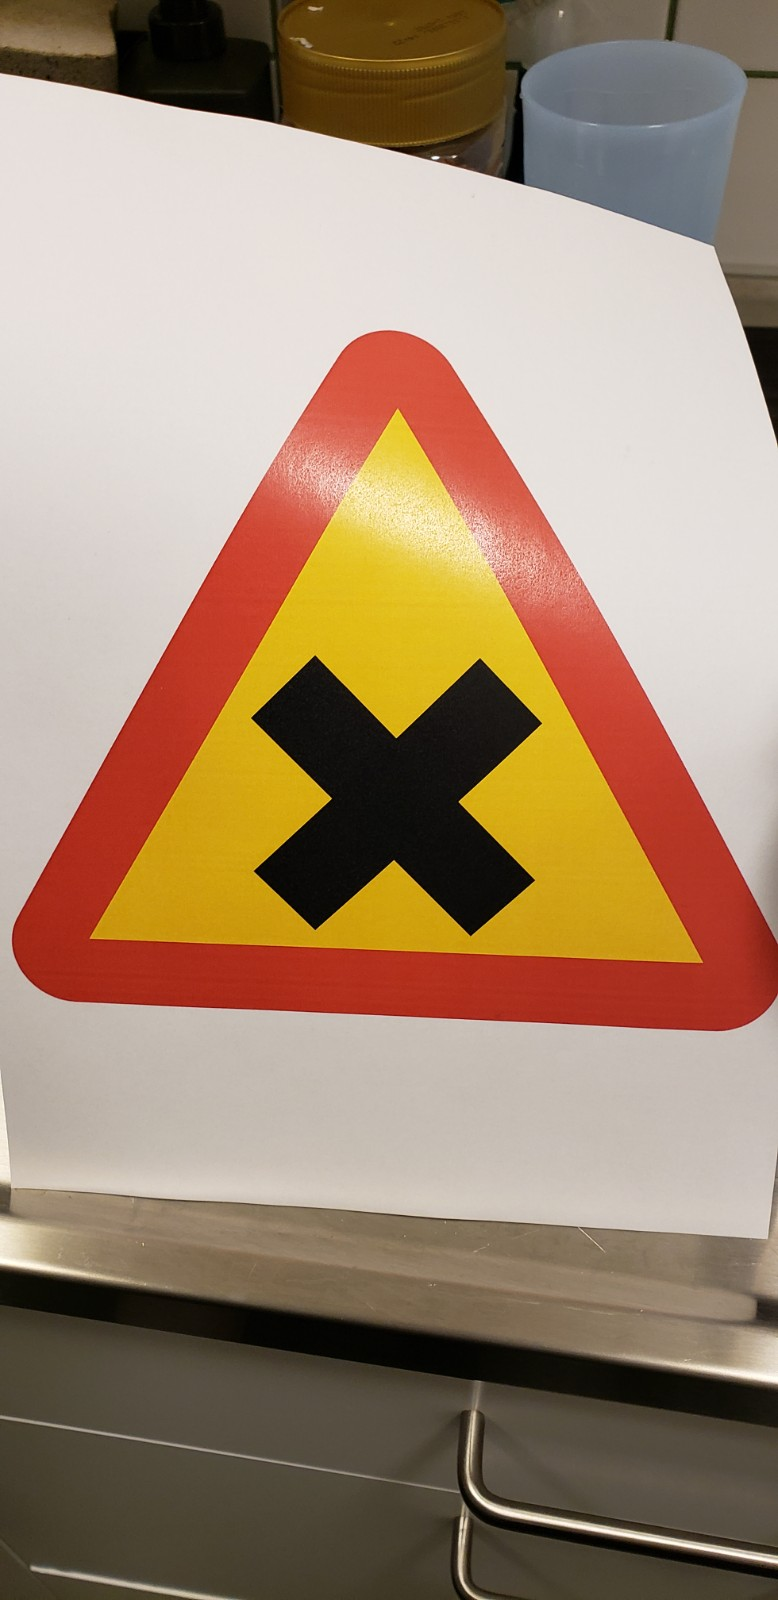junction: (12, 273, 778, 1069)
